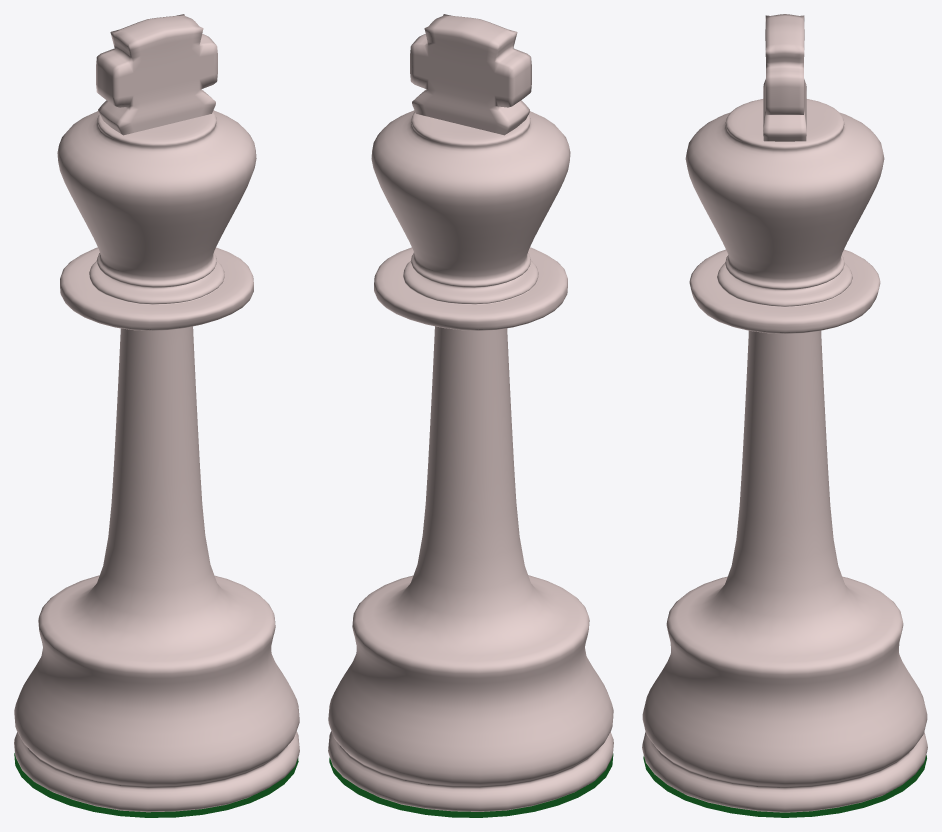
The model's file is krolowa.obj.
The picture shows the model from 3 angles, left to right: view 1: azimuth 30°, elevation 25°; view 2: azimuth 150°, elevation 25°; view 3: azimuth 270°, elevation 25°; orthographic projection.
Parts seen in each view (by area): view 1: Krone-m_Mrke-brikker.004, Krone-m_Filt.004; view 2: Krone-m_Mrke-brikker.004, Krone-m_Filt.004; view 3: Krone-m_Mrke-brikker.004, Krone-m_Filt.004.
Part boxes in pixels (bbox=[...]): Krone-m_Mrke-brikker.004: bbox=[14, 14, 299, 812]; Krone-m_Filt.004: bbox=[14, 753, 298, 817]; Krone-m_Mrke-brikker.004: bbox=[328, 14, 613, 811]; Krone-m_Filt.004: bbox=[329, 753, 613, 817]; Krone-m_Mrke-brikker.004: bbox=[642, 14, 927, 812]; Krone-m_Filt.004: bbox=[643, 755, 926, 817].
Size of the model in its own units: 4.29 by 12.1 by 4.29.
